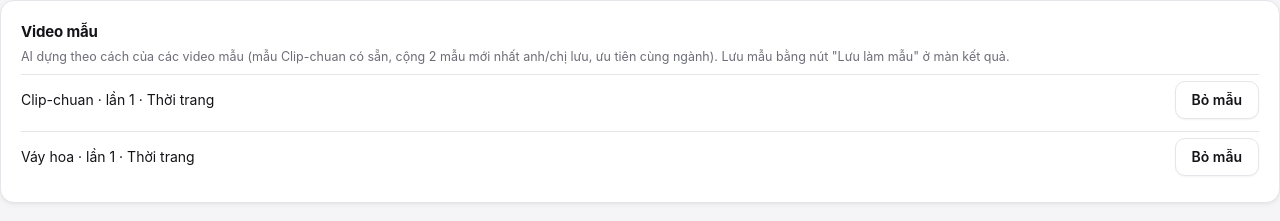
lists the saved video mẫu and removes one
Expected: the text "Clip-chuan · lần 1 · Thời trang" is shown, 21,89 -> 214,110
Click the button with aria-label "Bỏ mẫu Clip-chuan" at (1217, 100), box 1174,81 -> 1259,119
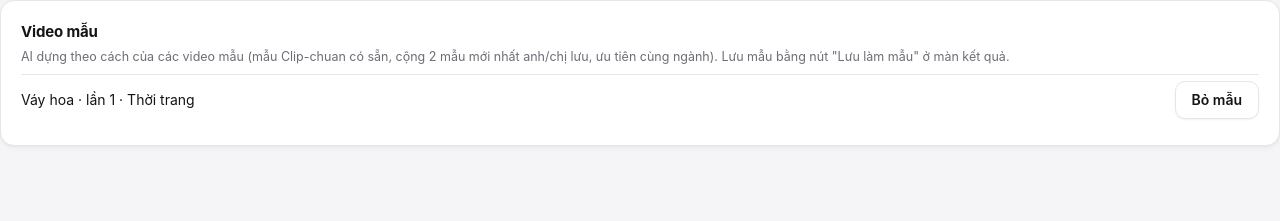
Expected: the text "Váy hoa · lần 1 · Thời trang" is shown, 21,89 -> 195,110
Expected: the text "Clip-chuan ·" is gone
